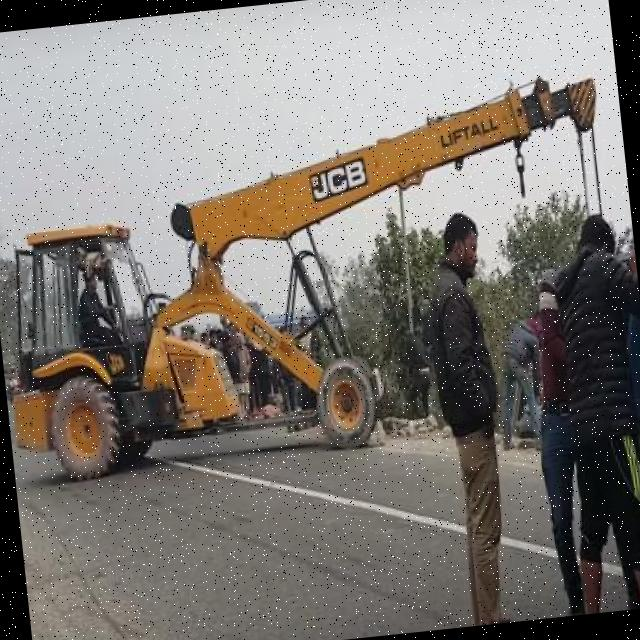Mobile Crane: (0, 77, 629, 485)
